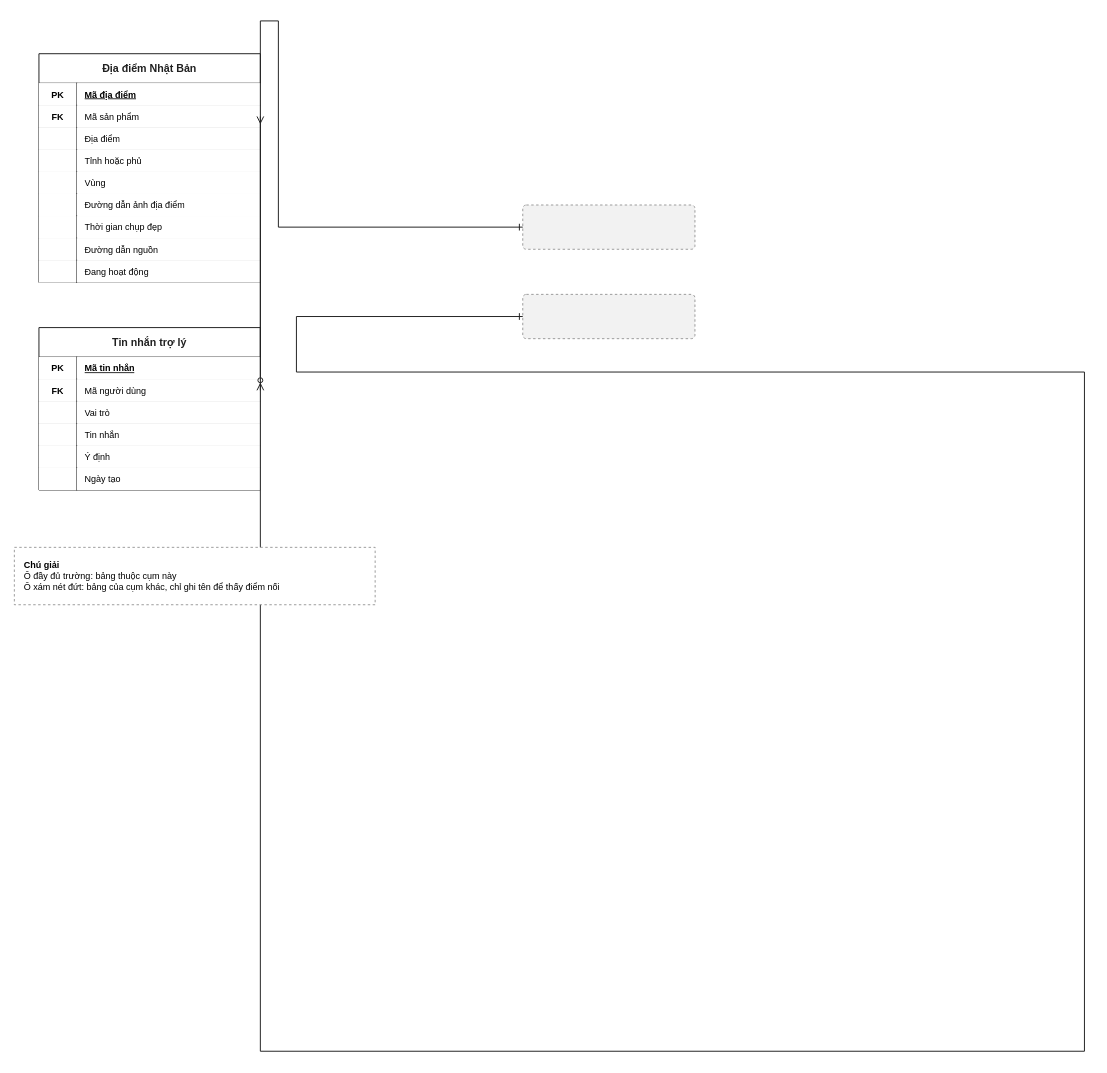
The diagram is 1107 pixels wide and 1073 high, and some of its shapes have lost their labels. Here are the shapes that lost their labels. From the top down, the centre of each, then its label:
At [608,226]: "Người dùng users".
At [608,316]: "Sản phẩm products".
